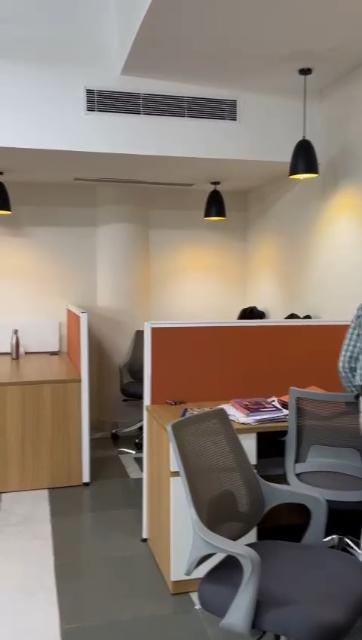floor: (0, 492, 142, 640)
moving-obj: (302, 284, 362, 432)
object: (158, 384, 362, 632), (0, 322, 30, 373)
wall: (0, 57, 362, 328)
